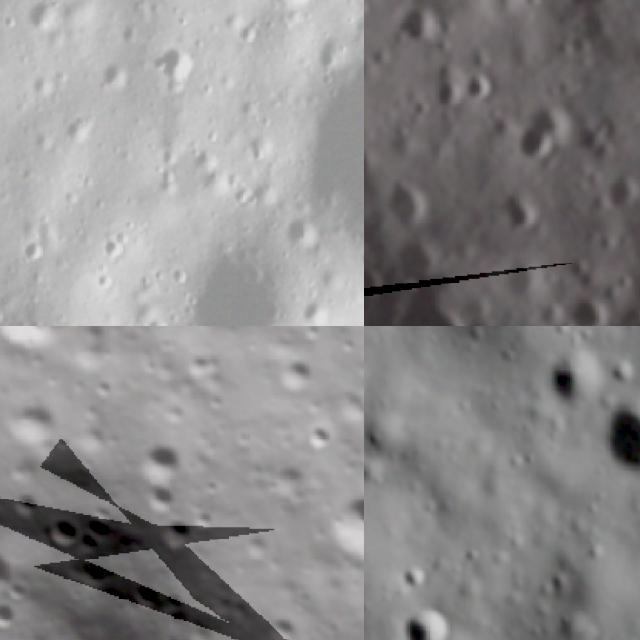crater: (286, 40, 364, 233), (31, 567, 199, 640), (186, 239, 303, 326), (492, 91, 581, 185), (304, 471, 364, 588), (116, 416, 192, 494), (0, 382, 73, 462), (486, 244, 561, 311), (380, 226, 447, 292), (368, 167, 433, 235), (386, 281, 480, 326), (260, 341, 324, 406), (607, 89, 640, 209), (384, 0, 451, 55), (556, 273, 625, 326), (489, 180, 547, 240), (540, 352, 600, 406), (607, 392, 640, 488), (34, 503, 88, 559), (0, 326, 71, 367), (0, 471, 50, 528), (420, 67, 473, 119), (453, 56, 508, 106), (591, 161, 640, 216), (147, 505, 198, 557), (130, 470, 181, 521), (175, 338, 224, 389), (456, 278, 505, 326), (523, 0, 627, 22), (293, 411, 340, 459), (153, 41, 200, 87), (252, 599, 303, 640), (410, 0, 491, 25), (0, 528, 21, 609), (60, 106, 100, 148), (281, 213, 323, 252), (16, 0, 58, 39), (101, 56, 135, 98), (402, 613, 453, 640), (229, 14, 266, 50), (0, 587, 26, 638), (94, 230, 130, 263), (239, 129, 273, 162), (298, 298, 335, 326), (16, 234, 46, 265), (228, 92, 259, 121), (89, 266, 117, 294), (164, 263, 193, 288), (402, 568, 430, 592), (142, 309, 176, 326), (458, 550, 484, 564), (75, 0, 113, 7)
